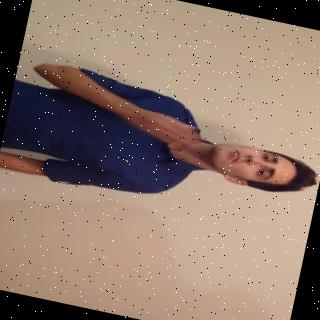ThankYou: (0, 54, 320, 234)
